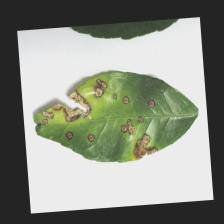canker: (15, 68, 154, 167)
